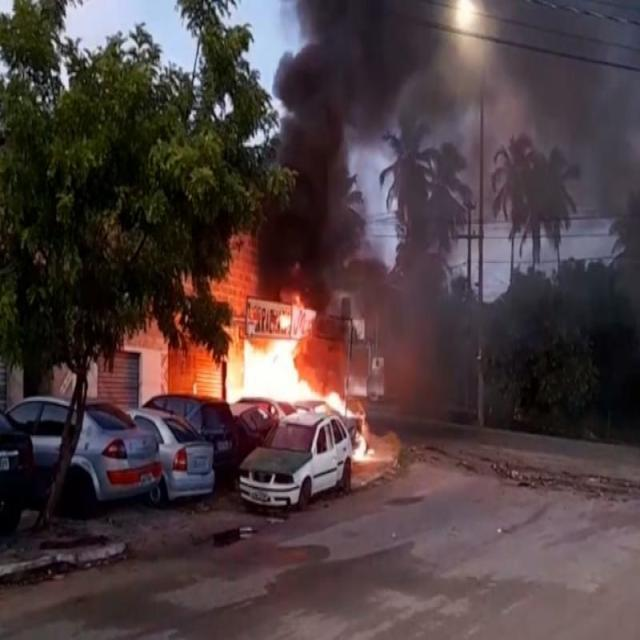Fire: (226, 312, 298, 420), (298, 378, 370, 462)
Smoke: (299, 0, 482, 374), (486, 3, 640, 308), (238, 38, 294, 310)
